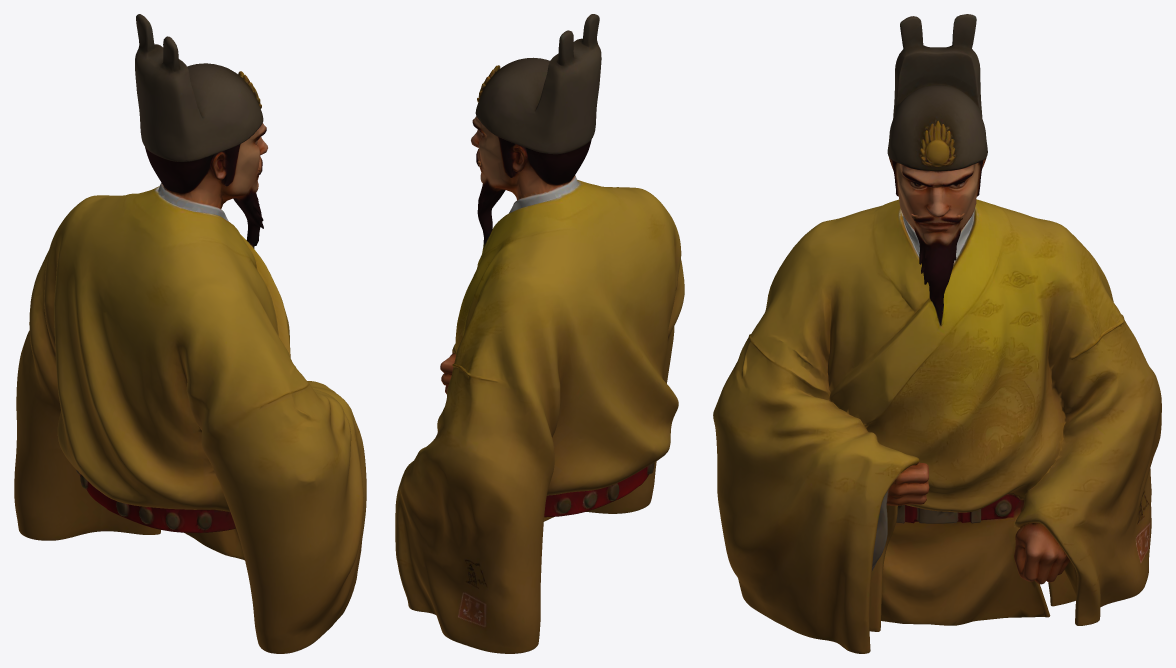
The model's file is le_loi.glb.
The picture shows the model from 3 angles, left to right: view 1: azimuth 30°, elevation 25°; view 2: azimuth 150°, elevation 25°; view 3: azimuth 270°, elevation 25°; orthographic projection. The views are drawn at different scales.
Parts seen in each view (by area): view 1: tripo_node_8c8aaecf-8be7-475e-a0d1-705fcf1ceeb2; view 2: tripo_node_8c8aaecf-8be7-475e-a0d1-705fcf1ceeb2; view 3: tripo_node_8c8aaecf-8be7-475e-a0d1-705fcf1ceeb2.
Boxes of the visible parts, x1,y1,x2,y2 form: tripo_node_8c8aaecf-8be7-475e-a0d1-705fcf1ceeb2: (14,14,366,653); tripo_node_8c8aaecf-8be7-475e-a0d1-705fcf1ceeb2: (395,14,684,653); tripo_node_8c8aaecf-8be7-475e-a0d1-705fcf1ceeb2: (713,14,1161,653).
Bounding box in the file's own units: 0.4516 × 1 × 0.7231.
Materials: 1 (1 with a texture image).
